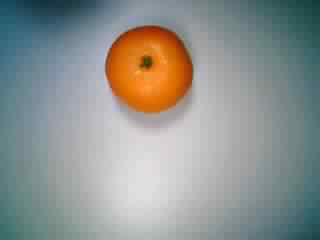orange: (101, 23, 198, 117)
